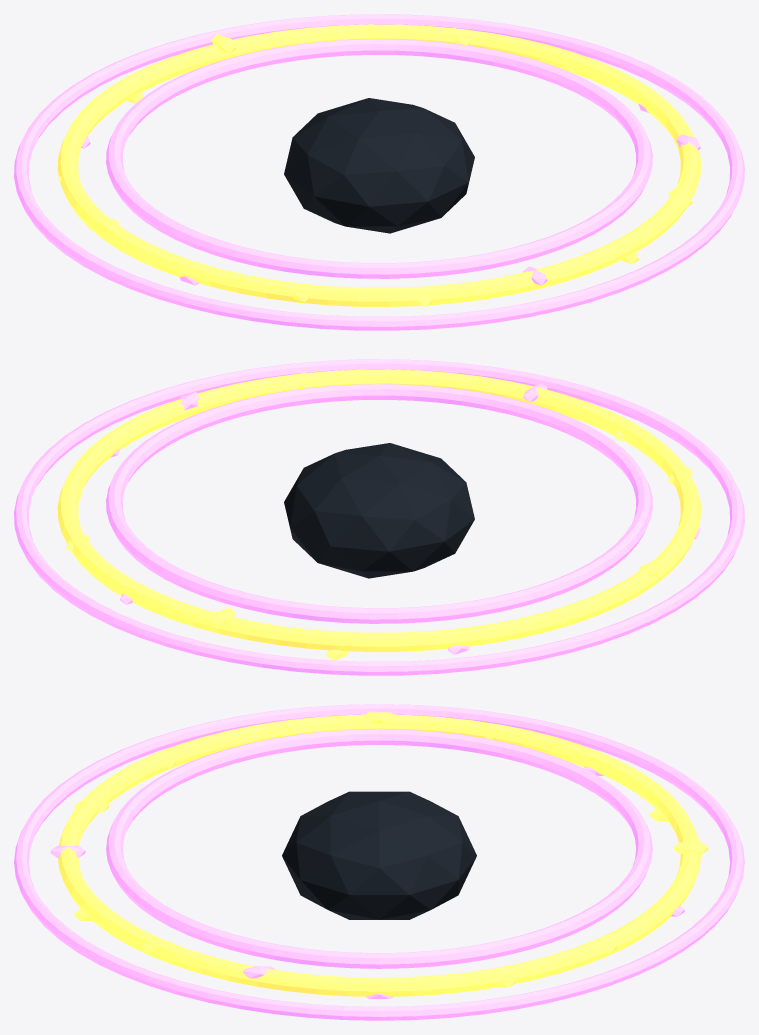
The model's file is gravity_well.glb.
3 renders of one model, top to bottom at view 1: azimuth 30°, elevation 25°; view 2: azimuth 150°, elevation 25°; view 3: azimuth 270°, elevation 25°, orthographic.
Parts seen in each view (by area): view 1: Amber accretion, Outer accretion, Violet accretion, Dark collapsed star; view 2: Amber accretion, Outer accretion, Violet accretion, Dark collapsed star; view 3: Amber accretion, Outer accretion, Violet accretion, Dark collapsed star.
Part boxes in pixels (<box>): Amber accretion: <box>57,24,701,306</box>; Outer accretion: <box>14,14,744,330</box>; Violet accretion: <box>106,39,652,278</box>; Dark collapsed star: <box>284,98,474,233</box>; Amber accretion: <box>57,369,701,651</box>; Outer accretion: <box>14,359,744,675</box>; Violet accretion: <box>106,384,652,623</box>; Dark collapsed star: <box>284,443,474,578</box>; Amber accretion: <box>58,714,701,996</box>; Outer accretion: <box>14,704,744,1020</box>; Violet accretion: <box>106,729,652,968</box>; Dark collapsed star: <box>282,791,476,919</box>.
Bounding box in the file's own units: 7.86 × 1.3 × 7.86.
